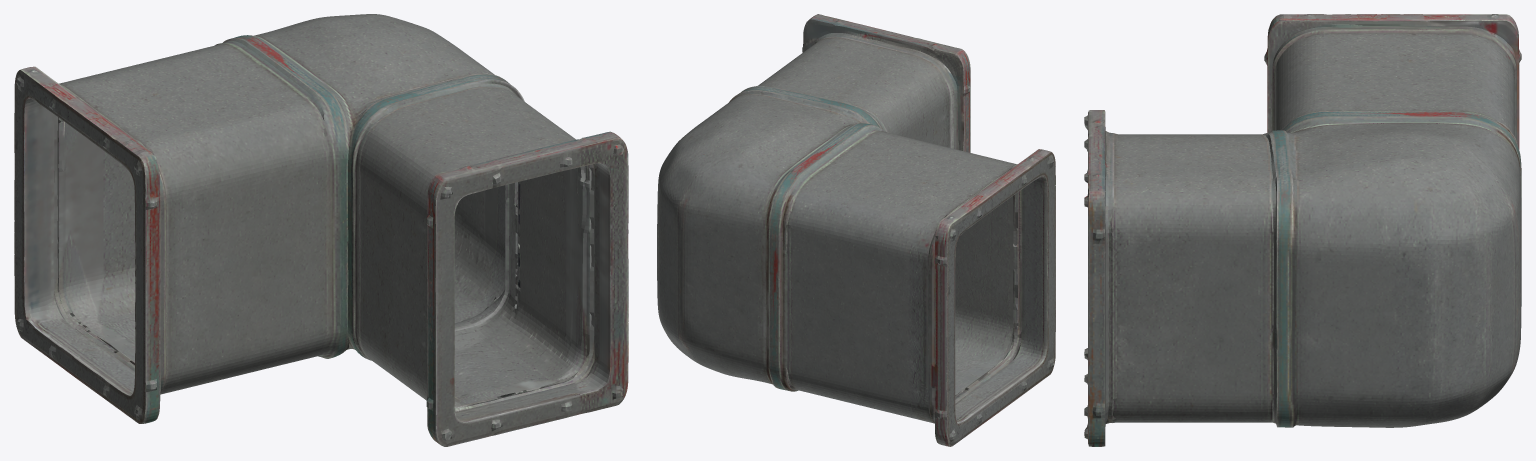
The model's file is Meshy_AI_Square_Duct_Elbow_in__0623181211_texture.fbx.
3 views of the same model, side by side, from view 1: azimuth 30°, elevation 25°; view 2: azimuth 150°, elevation 25°; view 3: azimuth 270°, elevation 25° (orthographic). The views are drawn at different scales.
Visible parts, largest first — view 1: temp; view 2: temp; view 3: temp.
Boxes of the visible parts, <box> form: temp: <box>14,14,628,446</box>; temp: <box>657,14,1055,446</box>; temp: <box>1084,14,1521,446</box>.
Bounding box in the file's own units: 191 × 129 × 191.
1 material, 1 textured.
